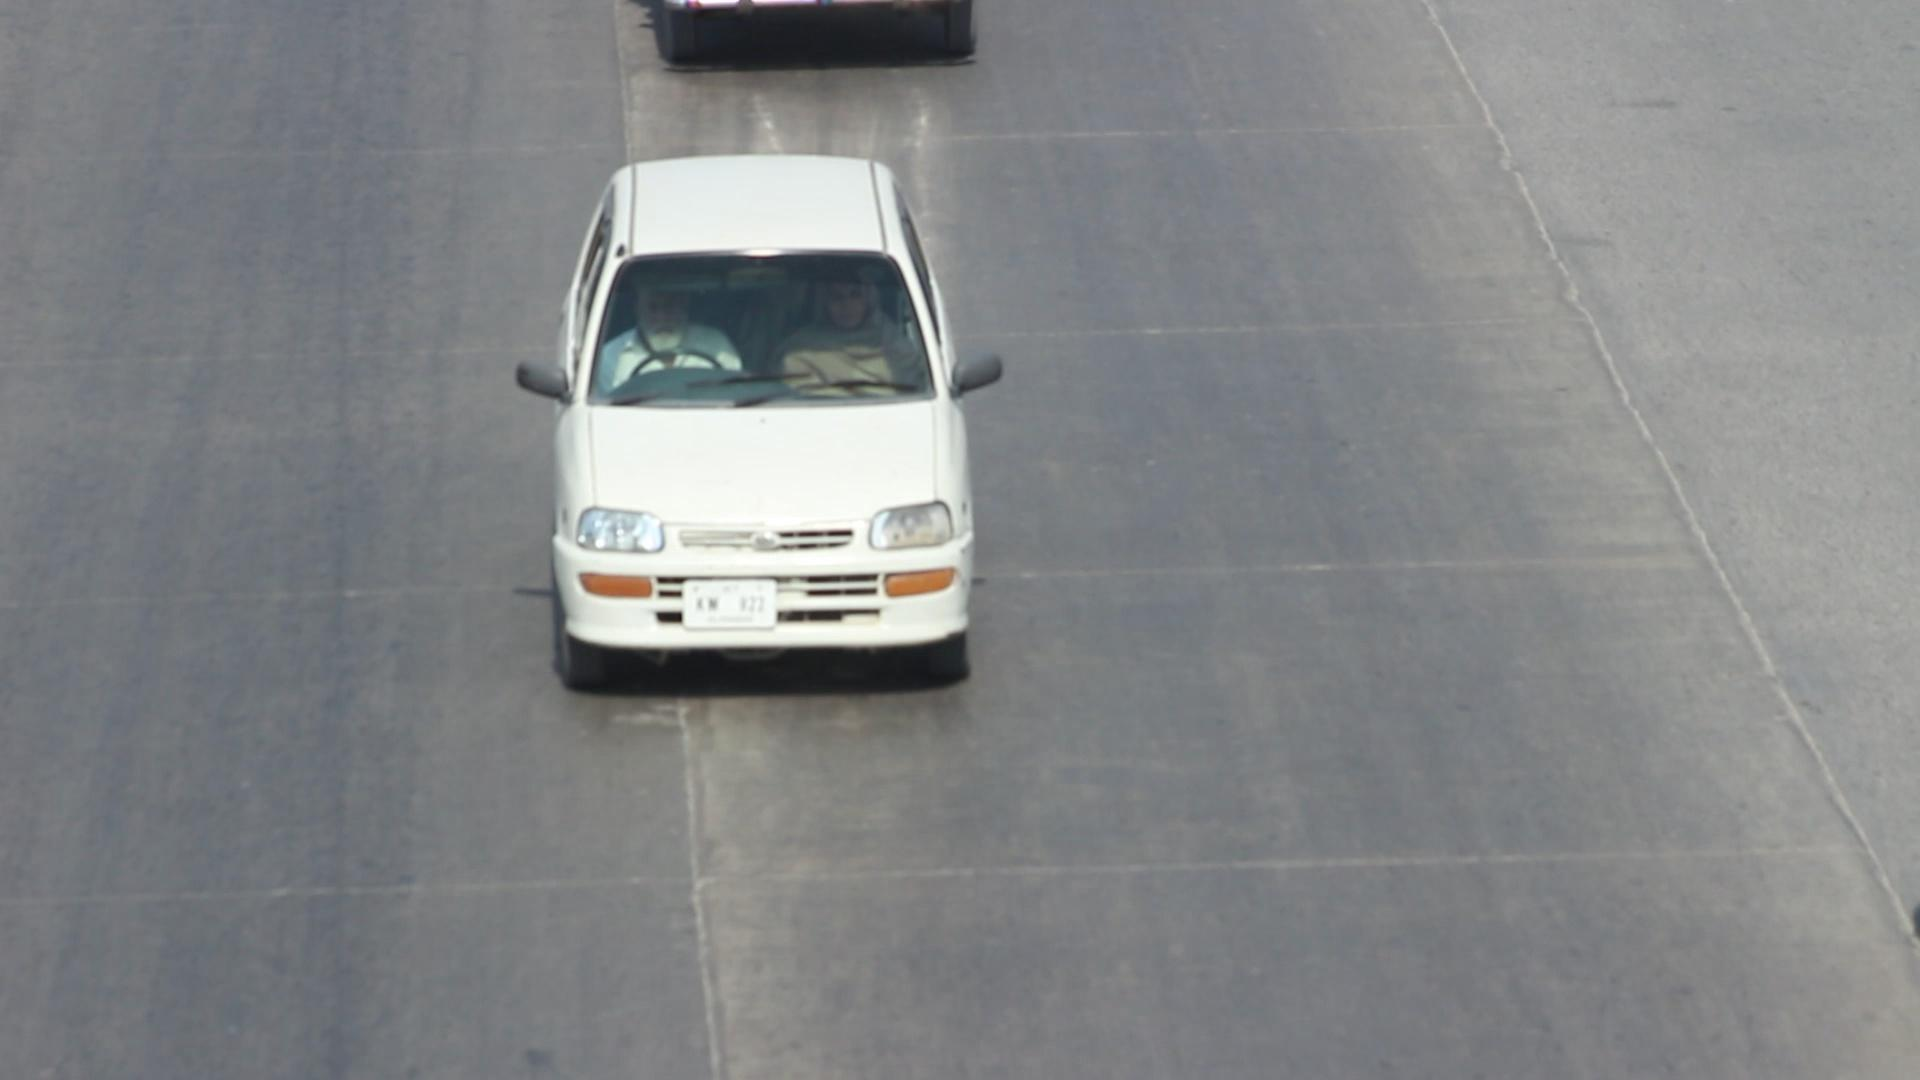windshield: (584, 236, 947, 413)
